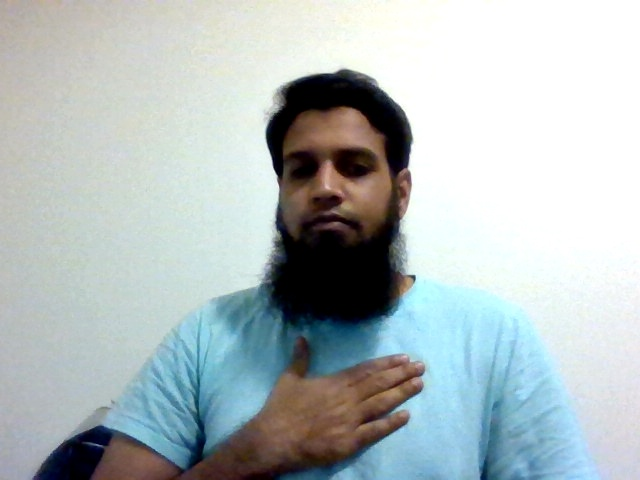please: (257, 335, 427, 473)
